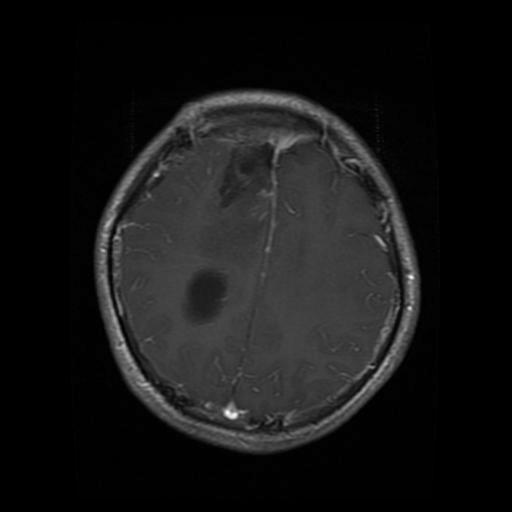Tumour-Glioma: (187, 268, 234, 327)
